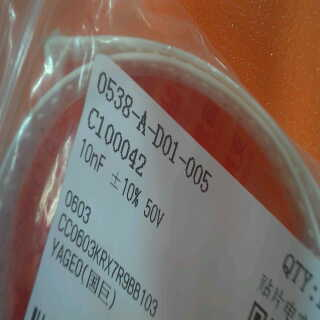10nF: (69, 137, 108, 173)
